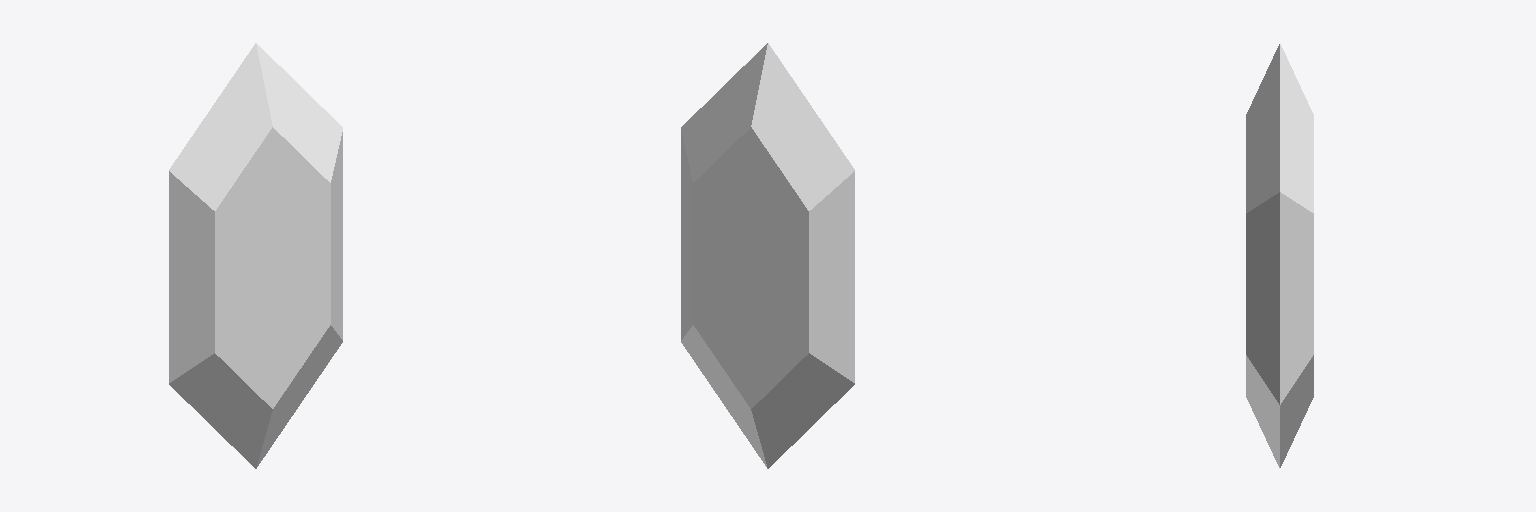
File: zychorium.obj
3 renders of one model, left to right at view 1: azimuth 30°, elevation 25°; view 2: azimuth 150°, elevation 25°; view 3: azimuth 270°, elevation 25°, orthographic.
Visible parts, largest first — view 1: outside, inside; view 2: outside, inside; view 3: outside.
Boxes of the visible parts, box(x1,y1,x2,y2) form: outside: box(169, 43, 342, 468); inside: box(215, 127, 330, 408); outside: box(681, 43, 854, 468); inside: box(693, 127, 808, 408); outside: box(1246, 44, 1313, 467).
Bounding box in the file's own units: 0.3754 × 0.8759 × 0.1251.